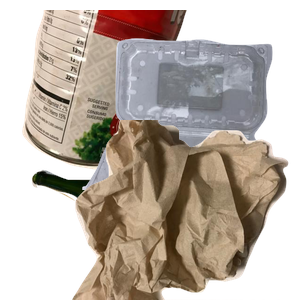glass: (29, 167, 241, 300)
metal: (20, 10, 199, 172)
plastic: (80, 36, 300, 216)
trash: (70, 120, 300, 300)
